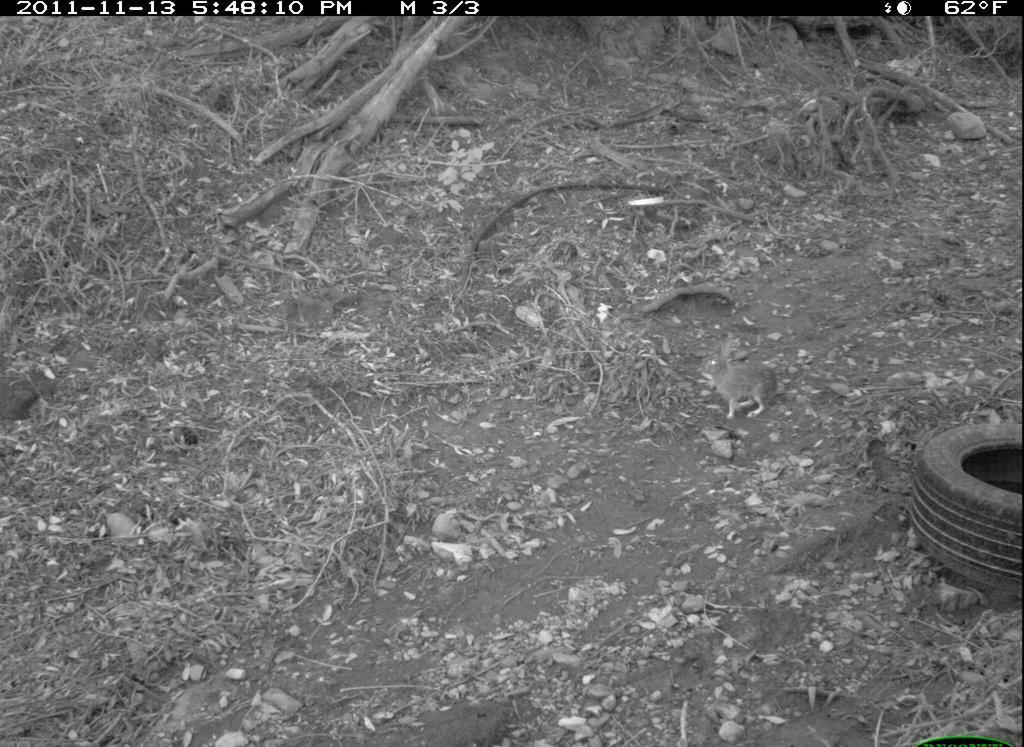rabbit: (694, 331, 788, 428)
